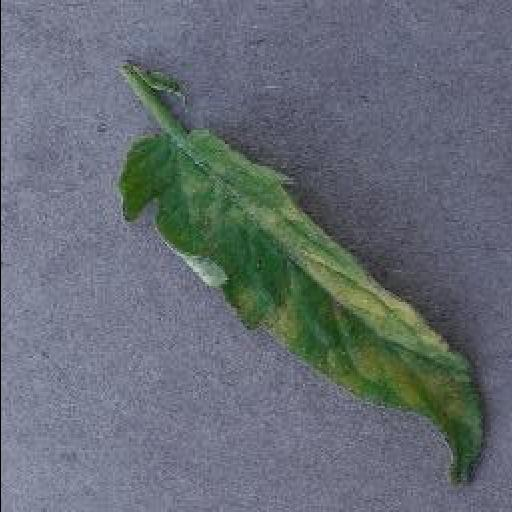disease_tomato: (115, 127, 489, 487)
